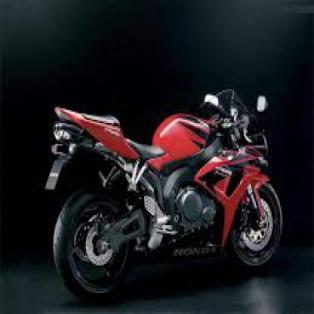Motocicleta: (39, 85, 292, 299)
